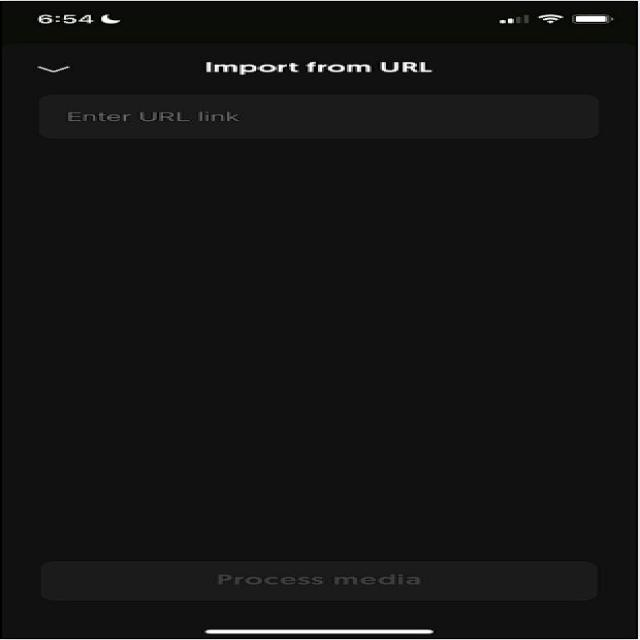button: (12, 534, 640, 622)
icon button: (15, 45, 94, 82)
input: (21, 82, 630, 161)
spacer: (24, 176, 616, 517)
text: (187, 54, 458, 82)
